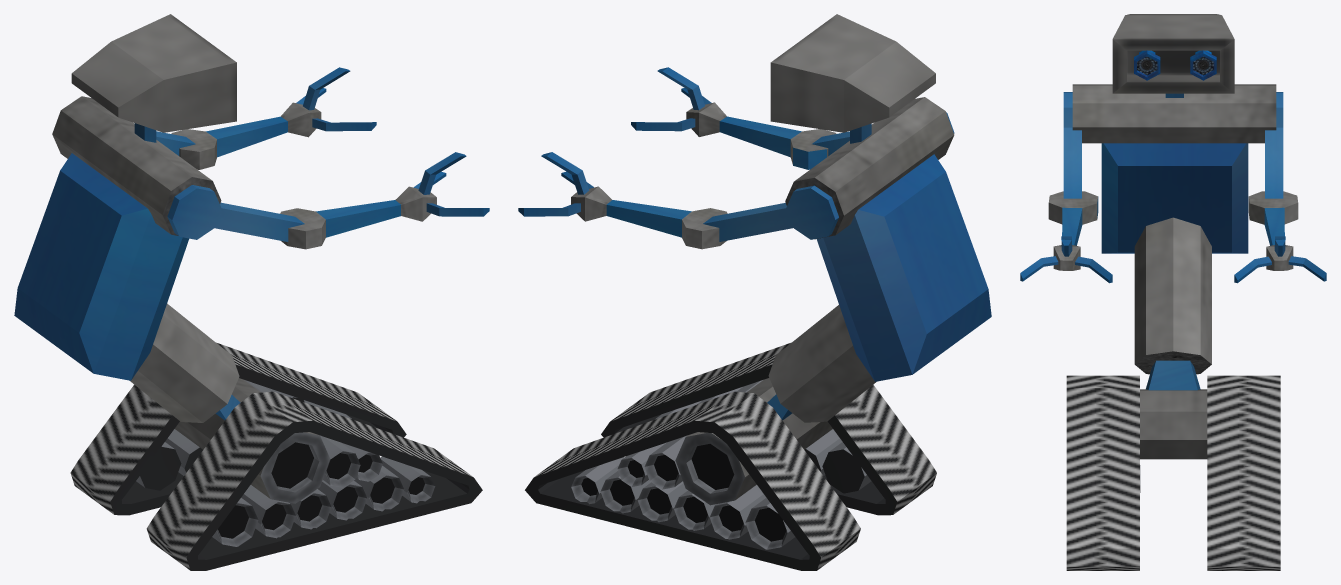
The model's file is robopainel.fbx.
3 views of the same model, side by side, from view 1: azimuth 30°, elevation 25°; view 2: azimuth 150°, elevation 25°; view 3: azimuth 270°, elevation 25° (orthographic). The views are drawn at different scales.
Visible parts, largest first — view 1: Cube.001; view 2: Cube.001; view 3: Cube.001.
Part boxes in pixels (bbox=[...]): Cube.001: bbox=[14, 14, 489, 570]; Cube.001: bbox=[518, 14, 991, 570]; Cube.001: bbox=[1020, 14, 1326, 570].
Size of the model in its own units: 216 by 262 by 165.
